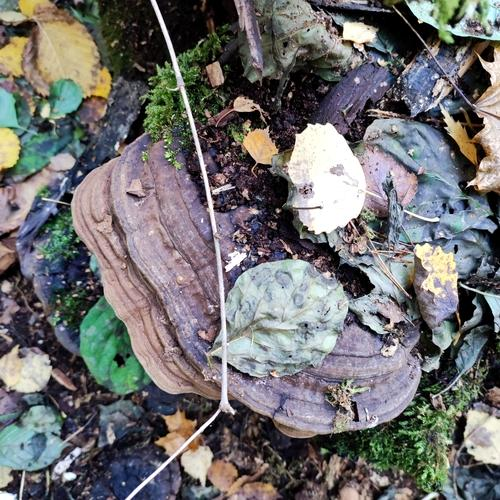Ganoderma - Fruit Body: (70, 114, 421, 439)
